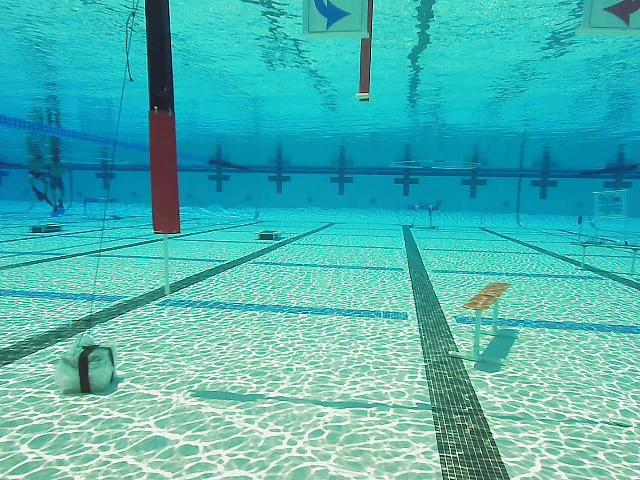dropper: (26, 221, 67, 233), (251, 229, 285, 242)
table: (406, 201, 440, 232)
torpedo: (591, 188, 628, 221)
